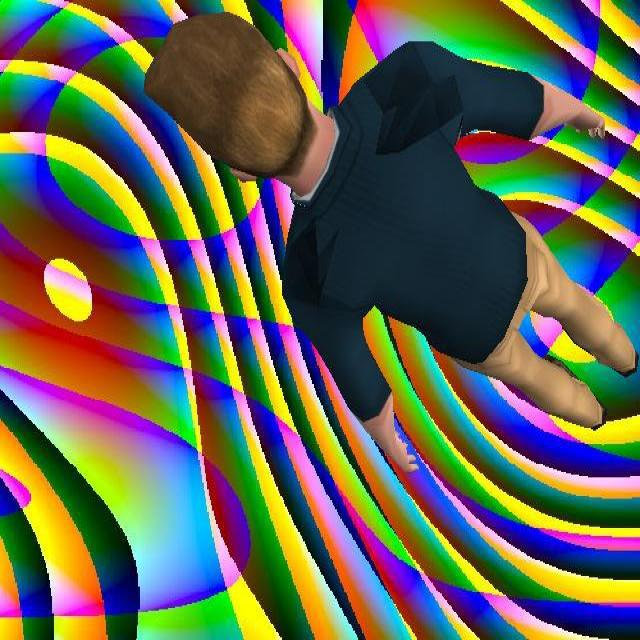obstacle: (137, 6, 640, 486)
